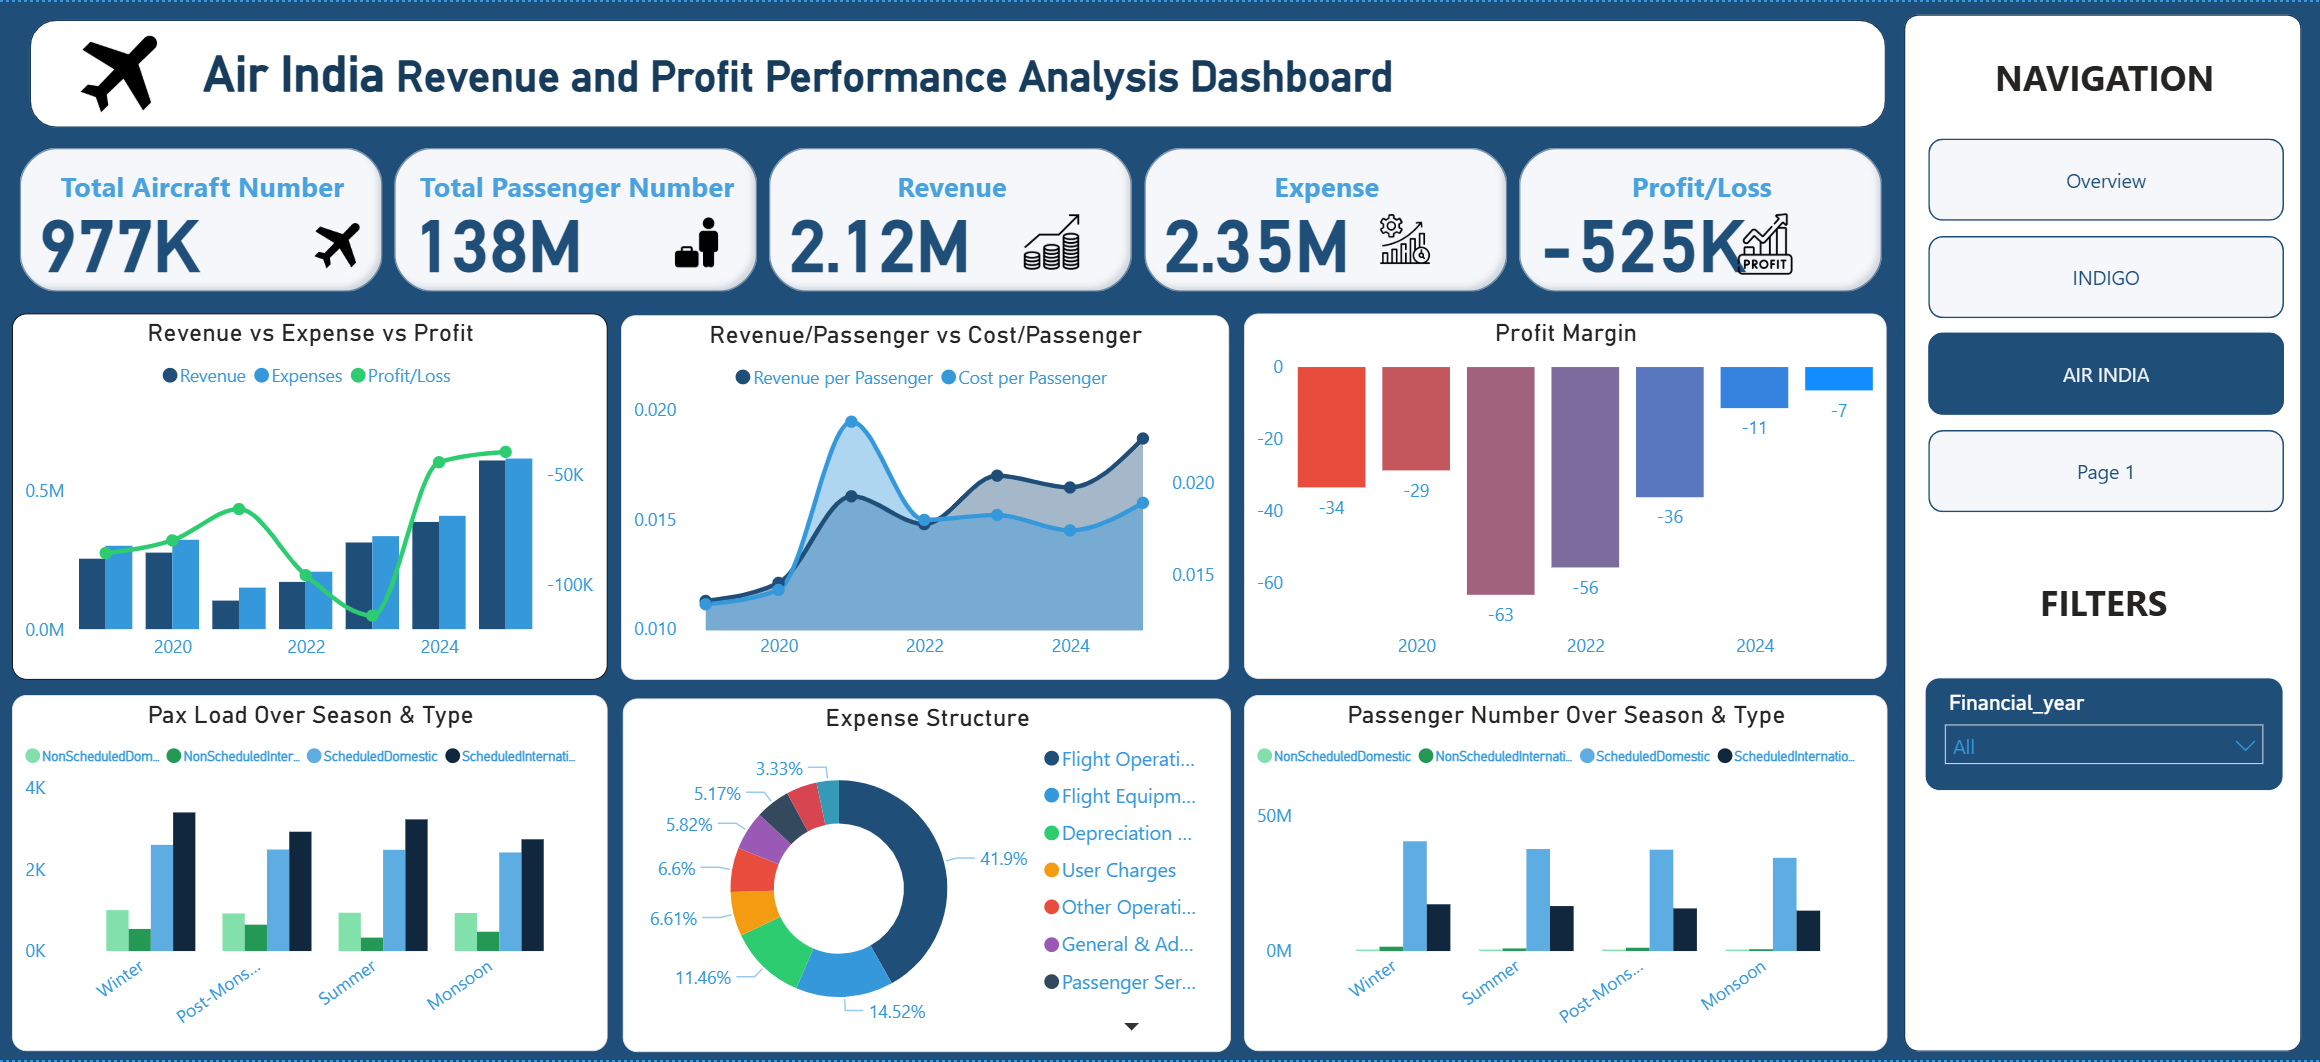

The dashboard page shown, as its layout file describes it:
{"tool":"powerbi","page":{"name":"AIR INDIA","canvas":[1580,720],"ordinal":2},"visuals":[{"type":"shape","box":[1297,8.1,270.8,705.9],"z":0,"group":"g1"},{"type":"cardVisual","fields":{"Data":["Sum(Yearly_traffic&finance.Total_Aircraft_Number)","Sum(Yearly_traffic&finance.Total_Passenger_Number)","Sum(Yearly_traffic&finance.TOTAL_OPERATING_REVENUEM)","Sum(Yearly_traffic&finance.TOTAL_OPERATING_EXPENSESM)","Sum(Yearly_traffic&finance.PROFIT/LOSS__AFTER_TAX)"]},"box":[9.4,94.3,1275.4,107.7],"z":0},{"type":"textbox","box":[1330.4,29.9,206.6,43.6],"z":1000,"group":"g1"},{"type":"areaChart","title":"Revenue/Passenger vs Cost/Passenger","fields":{"Category":["Yearly_traffic&finance.Financial_year"],"Y":["Sum(Yearly_traffic&finance.Revenue_per_Passenger)"],"Y2":["Sum(Yearly_traffic&finance.Cost_per_Passenger)"]},"box":[424.2,212.8,413.5,247.8],"z":1000},{"type":"pageNavigator","box":[1313.7,92.8,242.6,256.7],"z":2000,"group":"g1"},{"type":"clusteredColumnChart","title":"Pax Load Over Season & Type","fields":{"Category":["TRAFFIC DATA.season"],"Y":["Sum(TRAFFIC DATA.Pax Load factor)"],"Series":["TRAFFIC DATA.Type"]},"box":[9.4,471.4,405.4,242.4],"z":2000},{"type":"textbox","box":[1329.1,386.7,207.9,43.6],"z":3000,"group":"g1"},{"type":"donutChart","title":"Expense Structure","fields":{"Category":["finance.OPERATING FACTORS"],"Y":["Sum(finance.OPERATING FACTORS VALUES)"]},"box":[424.4,473.3,414,240.7],"z":3000},{"type":"columnChart","title":"Profit Margin","fields":{"Category":["Yearly_traffic&finance.Financial_year"],"Y":["Sum(Yearly_traffic&finance.Profit_Margin_percent)"]},"box":[847.7,211.6,437.2,248.8],"z":4000},{"type":"slicer","fields":{"Values":["year_table.Financial_year"]},"box":[1311.1,459.9,243.9,77],"z":4000,"group":"g1"},{"type":"image","box":[207.4,144.6,46.4,40.9],"z":5000},{"type":"image","box":[443.5,137.8,62.8,50.5],"z":6000},{"type":"image","box":[687.8,139.2,57.3,47.8],"z":7000},{"type":"image","box":[922.5,137.8,69.6,46.4],"z":8000},{"type":"shape","box":[21.5,12.1,1248.5,74.1],"z":9000},{"type":"textbox","box":[134.7,24.2,917.2,51.2],"z":10000},{"type":"image","box":[1176.3,136.5,51.9,55.9],"z":12000},{"type":"image","box":[47.3,18,68.7,61.9],"z":15000},{"type":"lineClusteredColumnComboChart","title":"Revenue vs Expense vs Profit","fields":{"Category":["Yearly_traffic&finance.Financial_year"],"Y":["Sum(Yearly_traffic&finance.TOTAL_OPERATING_REVENUEM)","Sum(Yearly_traffic&finance.TOTAL_OPERATING_EXPENSESM)"],"Y2":["Sum(Yearly_traffic&finance.PROFIT/LOSS__AFTER_TAX)"]},"box":[9.4,211.4,405.4,249.2],"z":16000},{"type":"clusteredColumnChart","title":"Passenger Number Over Season & Type","fields":{"Category":["TRAFFIC DATA.season"],"Series":["TRAFFIC DATA.Type"],"Y":["Sum(TRAFFIC DATA.Passenger Number)"]},"box":[847.1,471.4,437.7,242.4],"z":17000},{"type":"group","id":"g1","title":"Group 2","box":[1297,8.1,270.8,705.9],"z":17007}]}

Visuals, with their boxes in screenshot pixels (x1, y1, x2, y2), scaled from the page's 1580x720 canvas onto the 2320x1062 screenshot:
shape: <bbox>1904, 12, 2302, 1053</bbox>
cardVisual - Sum(Yearly_traffic&finance.Total_Aircraft_Number) x Sum(Yearly_traffic&finance.Total_Passenger_Number): <bbox>14, 139, 1887, 298</bbox>
textbox: <bbox>1953, 44, 2257, 108</bbox>
"Revenue/Passenger vs Cost/Passenger" areaChart: <bbox>623, 314, 1230, 679</bbox>
pageNavigator: <bbox>1929, 137, 2285, 516</bbox>
"Pax Load Over Season & Type" clusteredColumnChart: <bbox>14, 695, 609, 1053</bbox>
textbox: <bbox>1952, 570, 2257, 635</bbox>
"Expense Structure" donutChart: <bbox>623, 698, 1231, 1053</bbox>
"Profit Margin" columnChart: <bbox>1245, 312, 1887, 679</bbox>
slicer - year_table.Financial_year: <bbox>1925, 678, 2283, 792</bbox>
image: <bbox>305, 213, 373, 274</bbox>
image: <bbox>651, 203, 743, 278</bbox>
image: <bbox>1010, 205, 1094, 276</bbox>
image: <bbox>1355, 203, 1457, 272</bbox>
shape: <bbox>32, 18, 1865, 127</bbox>
textbox: <bbox>198, 36, 1545, 111</bbox>
image: <bbox>1727, 201, 1803, 284</bbox>
image: <bbox>69, 27, 170, 118</bbox>
"Revenue vs Expense vs Profit" lineClusteredColumnComboChart: <bbox>14, 312, 609, 679</bbox>
"Passenger Number Over Season & Type" clusteredColumnChart: <bbox>1244, 695, 1887, 1053</bbox>
"Group 2" group: <bbox>1904, 12, 2302, 1053</bbox>
